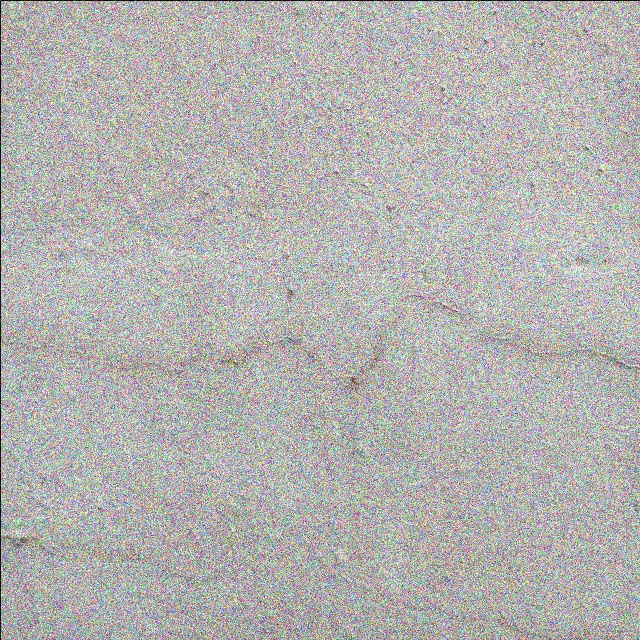SurfaceCrack: (1, 266, 640, 419)
